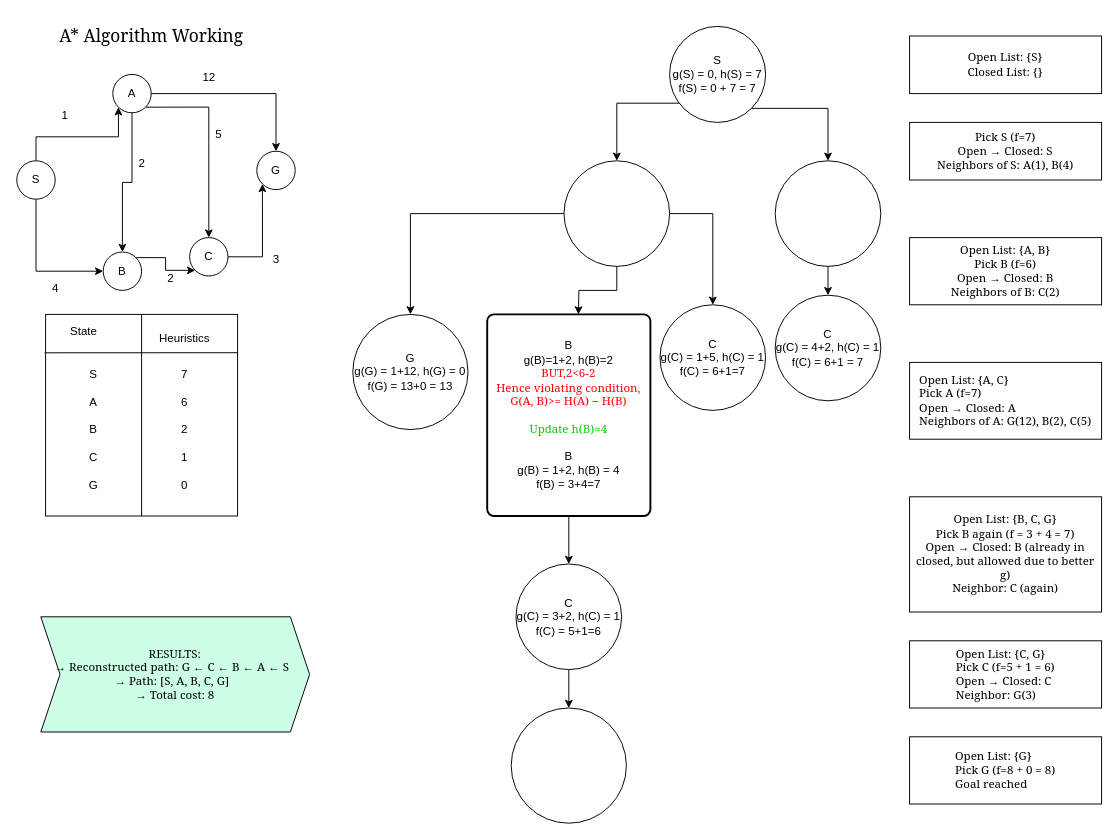
The diagram is 1118 pixels wide and 840 high, and some of its shapes have lost their labels. Here are the shapes that lost their labels. From the top down, the centre of each, then its label:
At (616,213): "A g(A) = 0+1, h(A) = 6 f(A) = 1+6 = 7".
At (827,213): "B g(B) = 0+4, h(B) = 2 f(B) = 4+2 = 6".
At (568,765): "G g(G) = 5+3, h(G) = 0 f(G) = 8+0 =8".
